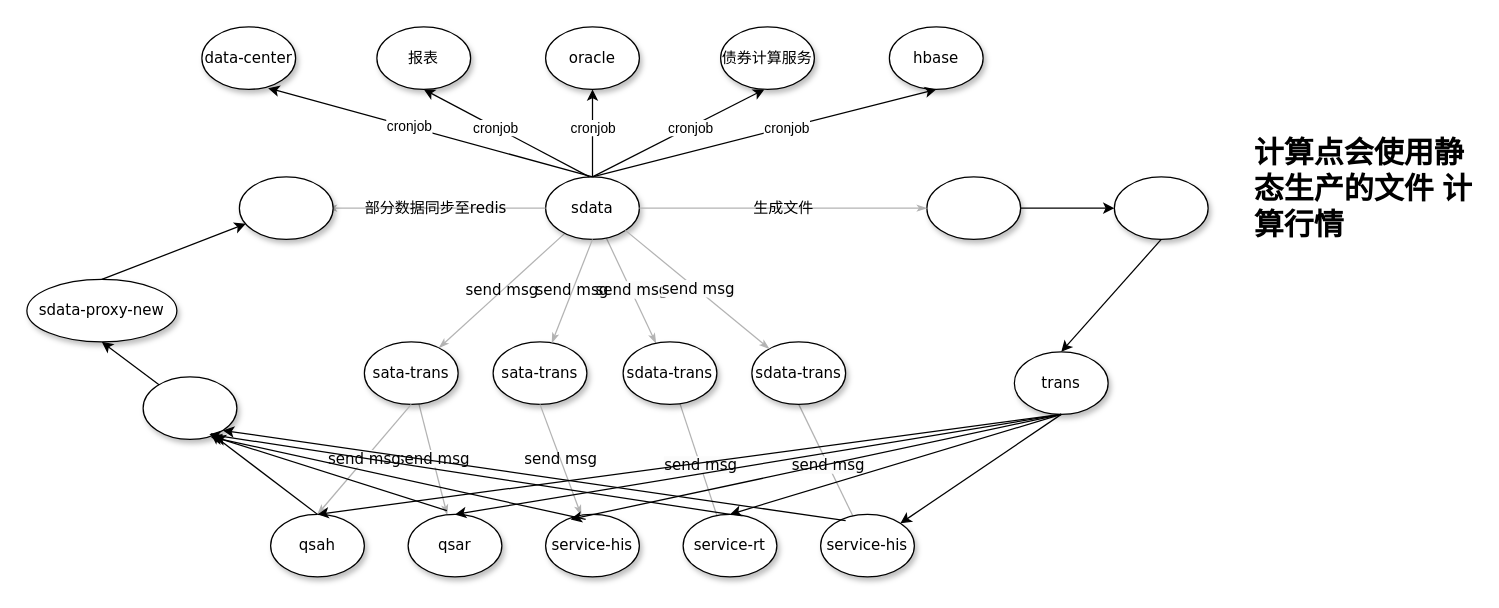
This 1499x608 diagram has some shape labels left out. Here are the shapes that lost their labels. From the top down, the centre of each, then its label:
At (287,209): "redis".
At (974,209): "file".
At (1162,209): "cal-*".
At (190,409): "sdata-cient".
